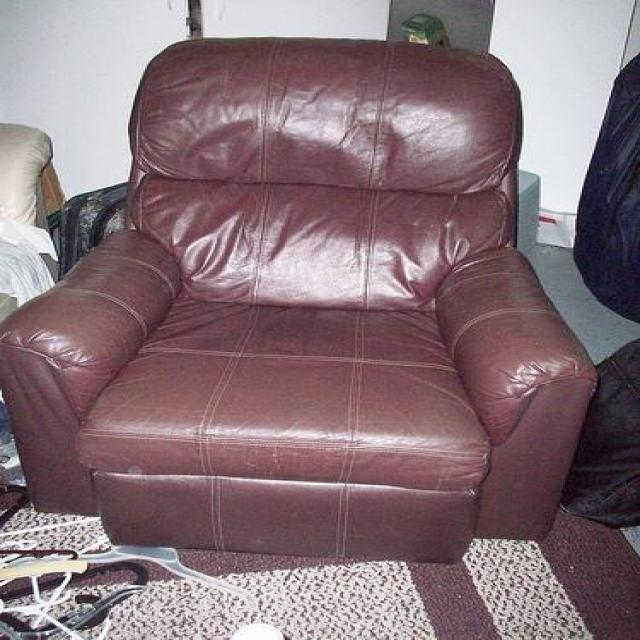sofa: (0, 35, 597, 564)
